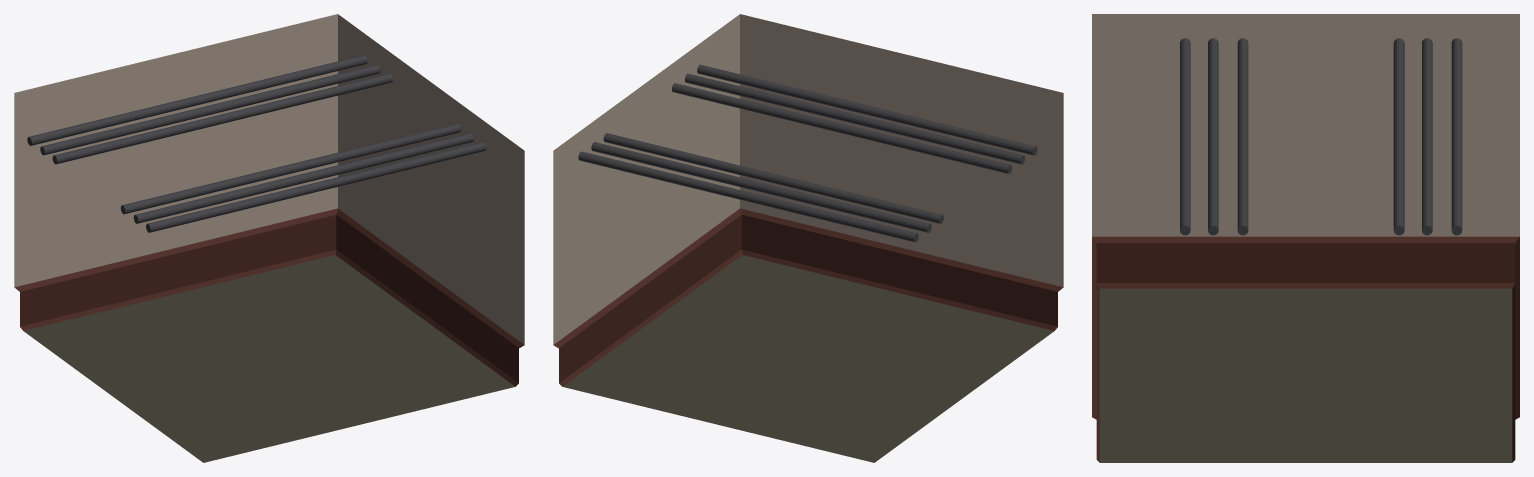
Rendered from simple_room.gltf.
The picture shows the model from 3 angles, left to right: view 1: azimuth 30°, elevation 25°; view 2: azimuth 150°, elevation 25°; view 3: azimuth 270°, elevation 25°; orthographic projection. The views are drawn at different scales.
Parts seen in each view (by area): view 1: Cube, Floor, Lower Wall, Cylinder, Cylinder.001; view 2: Cube, Floor, Lower Wall, Cylinder, Cylinder.001; view 3: Cube, Floor, Lower Wall, Cylinder, Cylinder.001.
Boxes of the visible parts, x1,y1,x2,y2 form: Cube: (14,14,524,344); Floor: (23,255,515,462); Lower Wall: (14,208,524,386); Cylinder: (27,55,392,164); Cylinder.001: (120,123,486,232); Cube: (553,14,1063,344); Floor: (562,255,1054,462); Lower Wall: (553,208,1063,386); Cylinder: (578,133,943,242); Cylinder.001: (672,64,1037,173); Cube: (1092,14,1519,236); Floor: (1099,288,1512,462); Lower Wall: (1092,236,1519,462); Cylinder: (1393,38,1462,235); Cylinder.001: (1180,38,1248,235).
Size of the model in its own units: 8.6 by 5.66 by 8.
